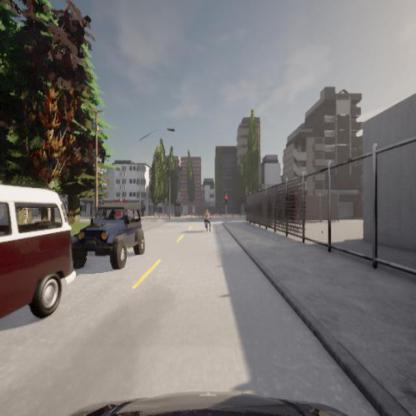bike: (202, 210, 211, 232)
traffic_light_red: (224, 196, 228, 203)
vehicle: (1, 169, 76, 363), (74, 200, 146, 269)
